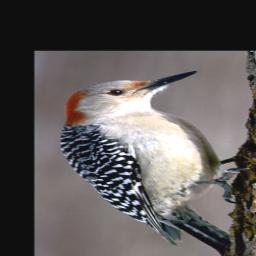Woodpecker: (59, 70, 248, 247)
